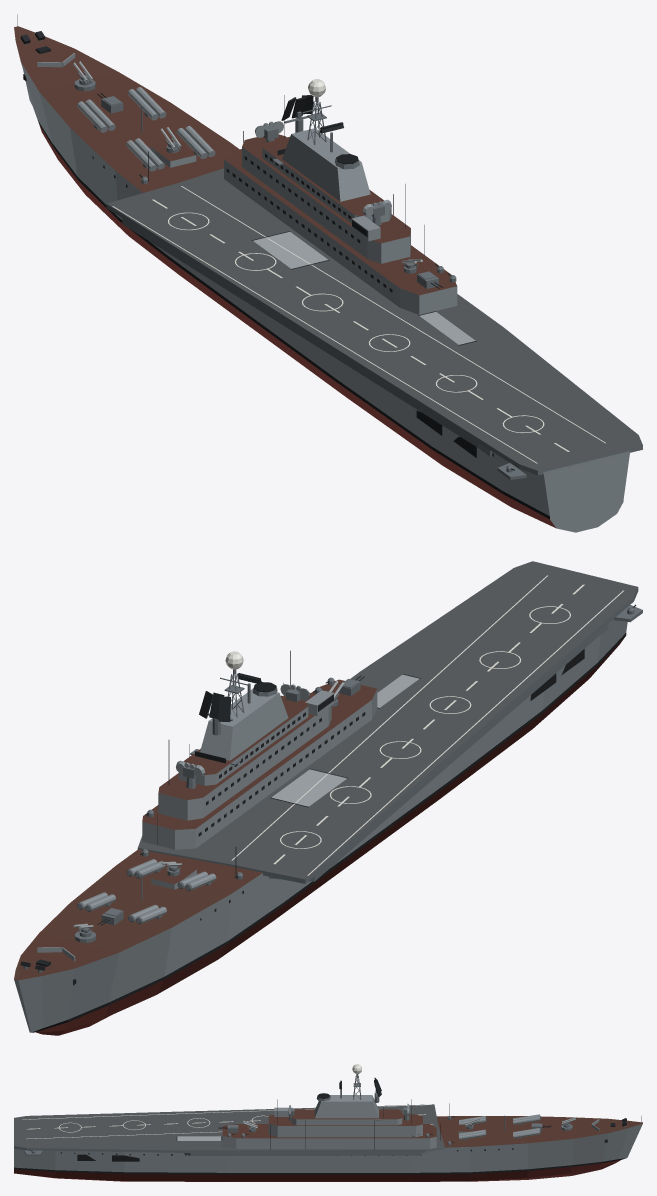
The model's file is kiev.glb.
3 views of the same model, one above another, from view 1: azimuth 30°, elevation 25°; view 2: azimuth 150°, elevation 25°; view 3: azimuth 270°, elevation 25° (orthographic). The views are drawn at different scales.
Visible parts, largest first — view 1: Flight deck, Hull, Island tier 1, Island tier 2, Island block, Port overhang support, Deck markings, Island tier 3, Elevator 1; view 2: Flight deck, Hull, Island tier 1, Island tier 2, Island block, Island tier 3, Deck markings, Port overhang support, Elevator 1; view 3: Hull, Flight deck, Island tier 1, Island tier 2, Island block, Island tier 3, Starboard sponson, Deck markings, Boat bays.001, Elevator 2.
Boxes of the visible parts, bbox=[...] form: Flight deck: bbox=[106, 168, 642, 475]; Hull: bbox=[14, 26, 630, 532]; Island tier 1: bbox=[224, 149, 457, 314]; Island tier 2: bbox=[242, 134, 410, 263]; Island block: bbox=[282, 128, 370, 201]; Port overhang support: bbox=[122, 218, 491, 456]; Deck markings: bbox=[112, 186, 605, 463]; Island tier 3: bbox=[262, 137, 391, 223]; Elevator 1: bbox=[253, 231, 328, 268]; Flight deck: bbox=[137, 561, 638, 883]; Hull: bbox=[14, 605, 629, 1035]; Island tier 1: bbox=[142, 679, 377, 849]; Island tier 2: bbox=[158, 692, 331, 820]; Island block: bbox=[200, 688, 288, 760]; Island tier 3: bbox=[178, 695, 308, 785]; Deck markings: bbox=[231, 575, 623, 875]; Port overhang support: bbox=[268, 624, 608, 881]; Elevator 1: bbox=[271, 769, 346, 806]; Hull: bbox=[14, 1116, 642, 1181]; Flight deck: bbox=[14, 1104, 444, 1152]; Island tier 1: bbox=[222, 1124, 436, 1148]; Island tier 2: bbox=[268, 1114, 422, 1137]; Island block: bbox=[314, 1095, 378, 1118]; Island tier 3: bbox=[291, 1109, 402, 1125]; Starboard sponson: bbox=[183, 1152, 423, 1155]; Deck markings: bbox=[22, 1104, 433, 1139]; Boat bays.001: bbox=[77, 1154, 139, 1161]; Elevator 2: bbox=[177, 1136, 221, 1140].
Bounding box in the file's own units: 47.3 × 59.11 × 273.
